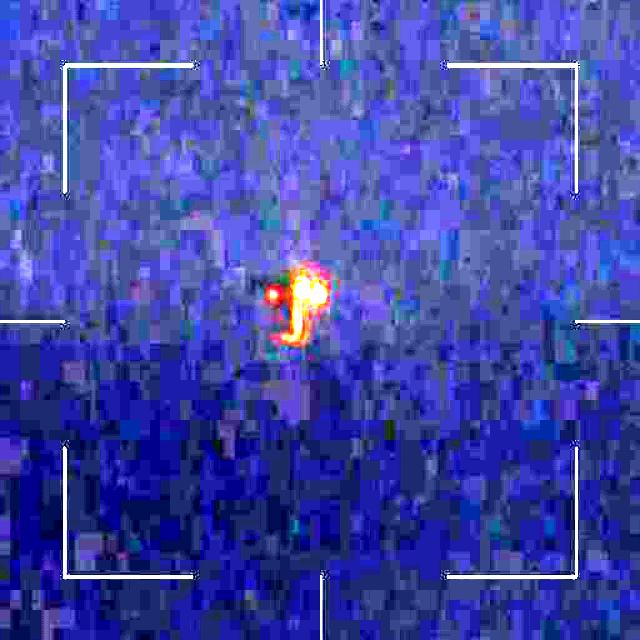bird: (254, 264, 332, 350)
